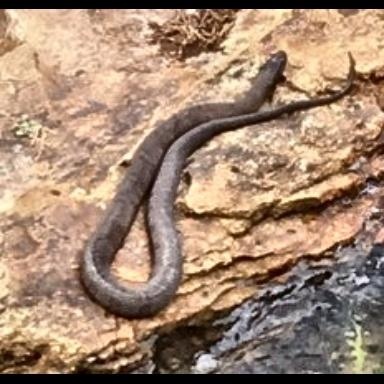snake: (79, 51, 341, 319)
